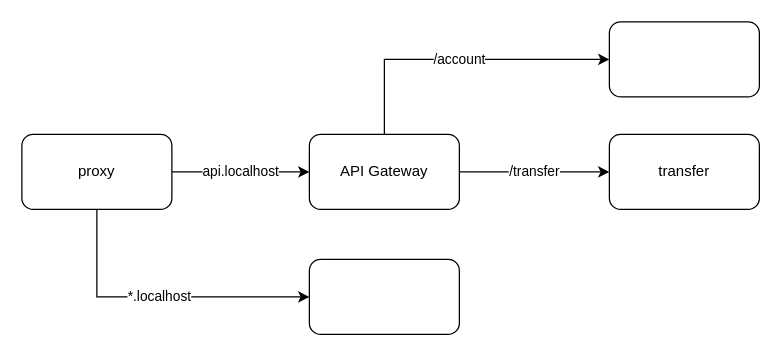
Image size: 781x356. Some labels were removed from this diagram. The shapes that lost their labels are listed below. From the top down, each one's centre as x and y in pixels, then its label:
[683,59]: account
[383,296]: manager
